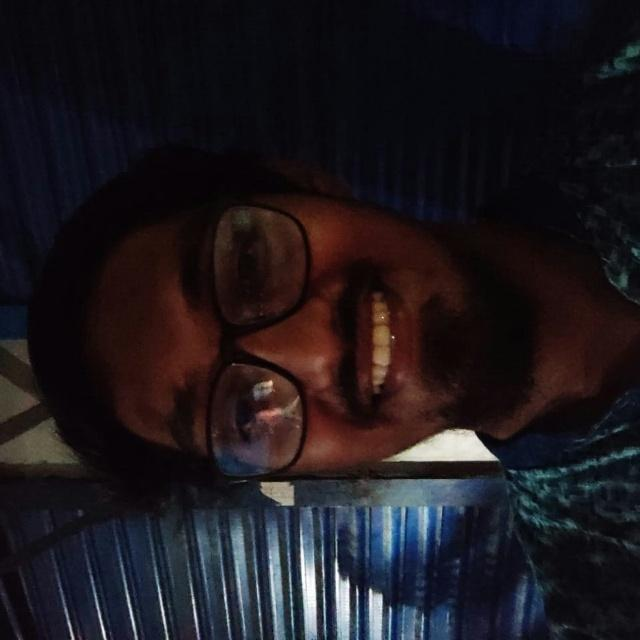Happy: (90, 115, 493, 570)
